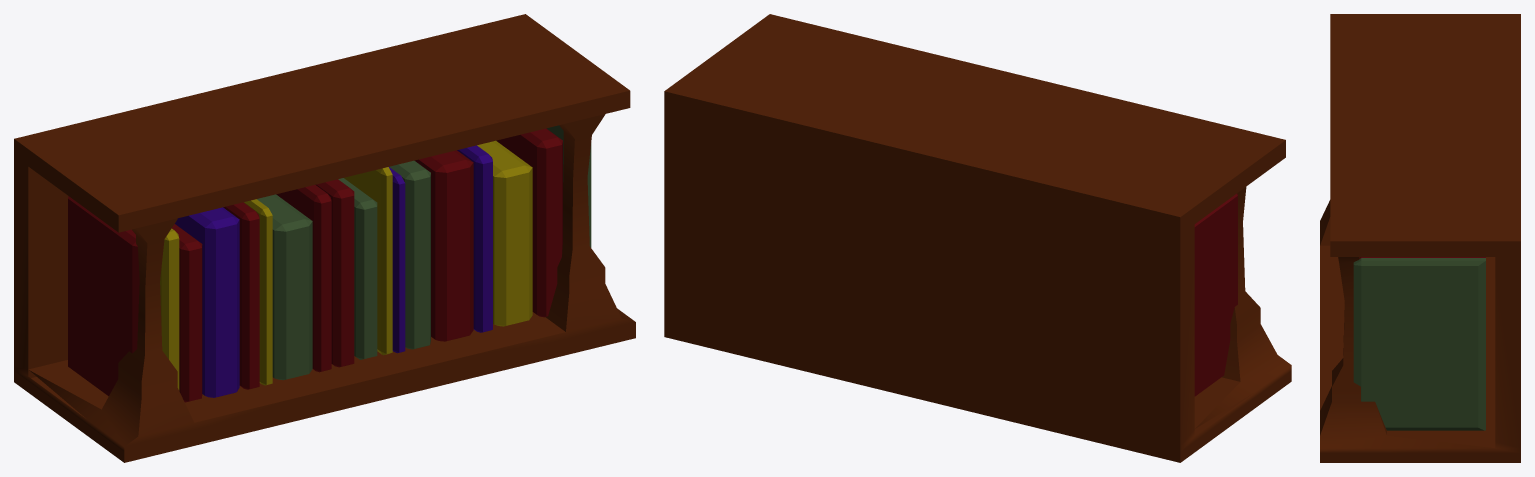
Rendered from bookshelf.fbx.
3 views of the same model, side by side, from view 1: azimuth 30°, elevation 25°; view 2: azimuth 150°, elevation 25°; view 3: azimuth 270°, elevation 25° (orthographic). The views are drawn at different scales.
Visible parts, largest first — view 1: pCube20; view 2: pCube20; view 3: pCube20.
Boxes of the visible parts, x1=… form: pCube20: x1=14, y1=14, x2=635, y2=462; pCube20: x1=664, y1=14, x2=1291, y2=462; pCube20: x1=1320, y1=14, x2=1520, y2=462.
Bounding box in the file's own units: 130 × 58.96 × 48.39.
